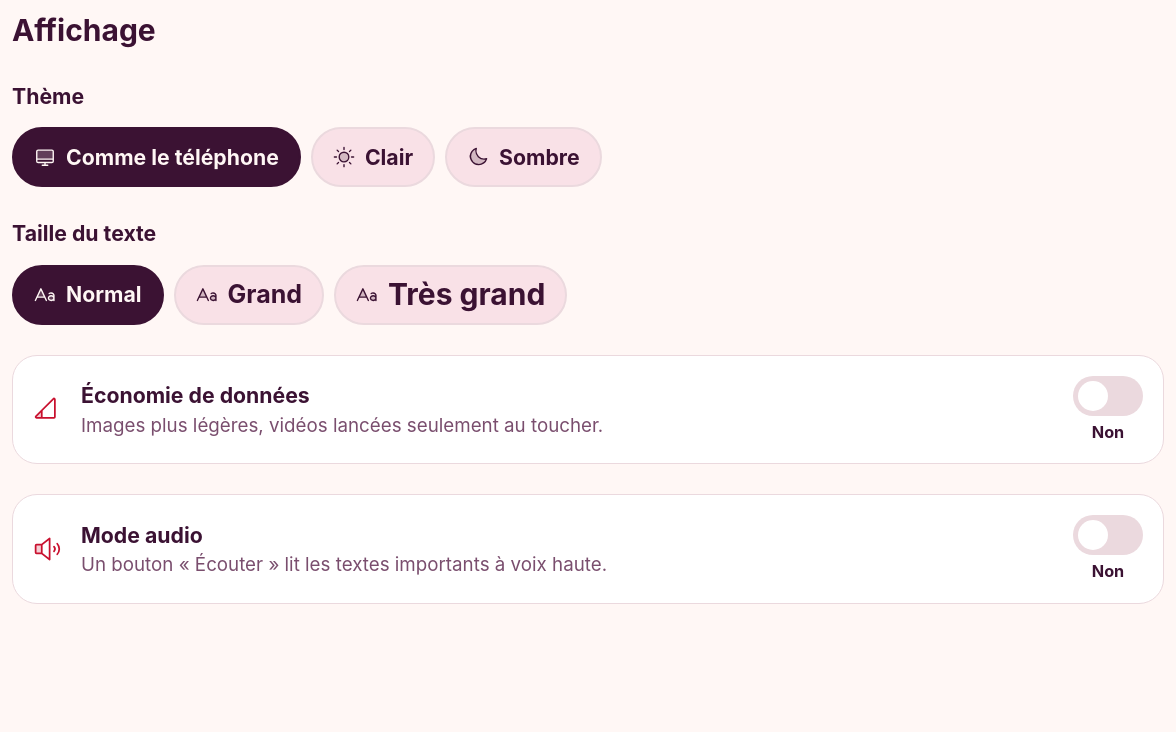
Test: DisplaySettings › switches the audio mode on
The width and height of the screenshot is (1176, 732).
Click the switch labelled "Mode audio" at (142, 535), box [12, 494, 1164, 604]
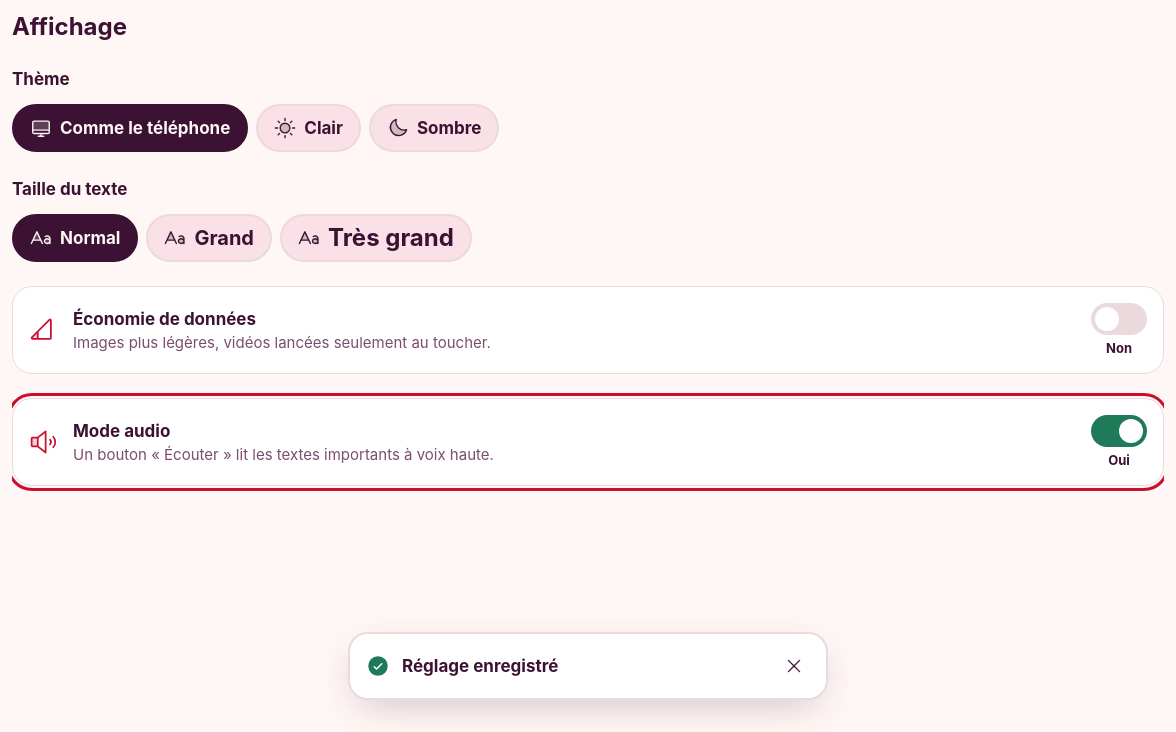
Check: the message reads "Réglage enregistré", box [402, 656, 558, 676]
